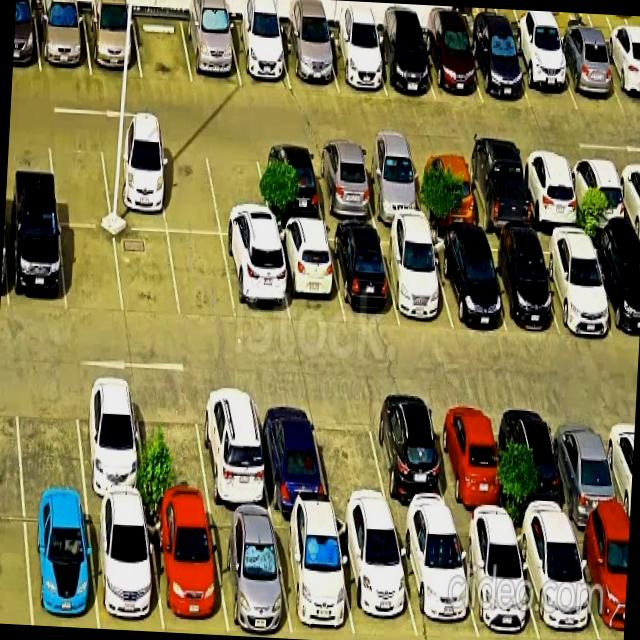car: (272, 514, 355, 640), (209, 511, 292, 636), (367, 400, 453, 520), (147, 507, 228, 633), (335, 516, 417, 639), (454, 522, 539, 640), (513, 524, 598, 640), (394, 522, 478, 639), (430, 401, 509, 524), (88, 503, 163, 630), (24, 501, 97, 629), (549, 405, 626, 526), (195, 389, 271, 511), (253, 392, 329, 512), (75, 380, 147, 504), (499, 402, 572, 524), (536, 234, 614, 335), (378, 231, 453, 330), (430, 235, 506, 332), (480, 237, 558, 331), (274, 226, 344, 324), (327, 228, 399, 323), (572, 524, 630, 640), (100, 137, 167, 231), (222, 237, 290, 323), (5, 217, 66, 312), (462, 154, 533, 233), (589, 236, 640, 343), (553, 39, 624, 113), (256, 146, 324, 223), (411, 152, 479, 228), (358, 149, 425, 223), (310, 148, 376, 223), (518, 155, 583, 230), (510, 38, 577, 110), (567, 156, 630, 231), (467, 33, 530, 107), (421, 31, 483, 103), (372, 33, 435, 100), (229, 21, 291, 89), (181, 17, 241, 87), (324, 30, 386, 96), (83, 12, 142, 78), (280, 28, 338, 91), (35, 10, 91, 75), (600, 44, 640, 114)
free: (311, 398, 391, 518), (135, 385, 210, 508), (15, 379, 85, 499), (205, 143, 272, 237), (168, 233, 236, 320), (115, 229, 180, 320), (156, 141, 220, 233), (48, 133, 111, 226), (60, 225, 123, 314), (133, 14, 192, 83)
